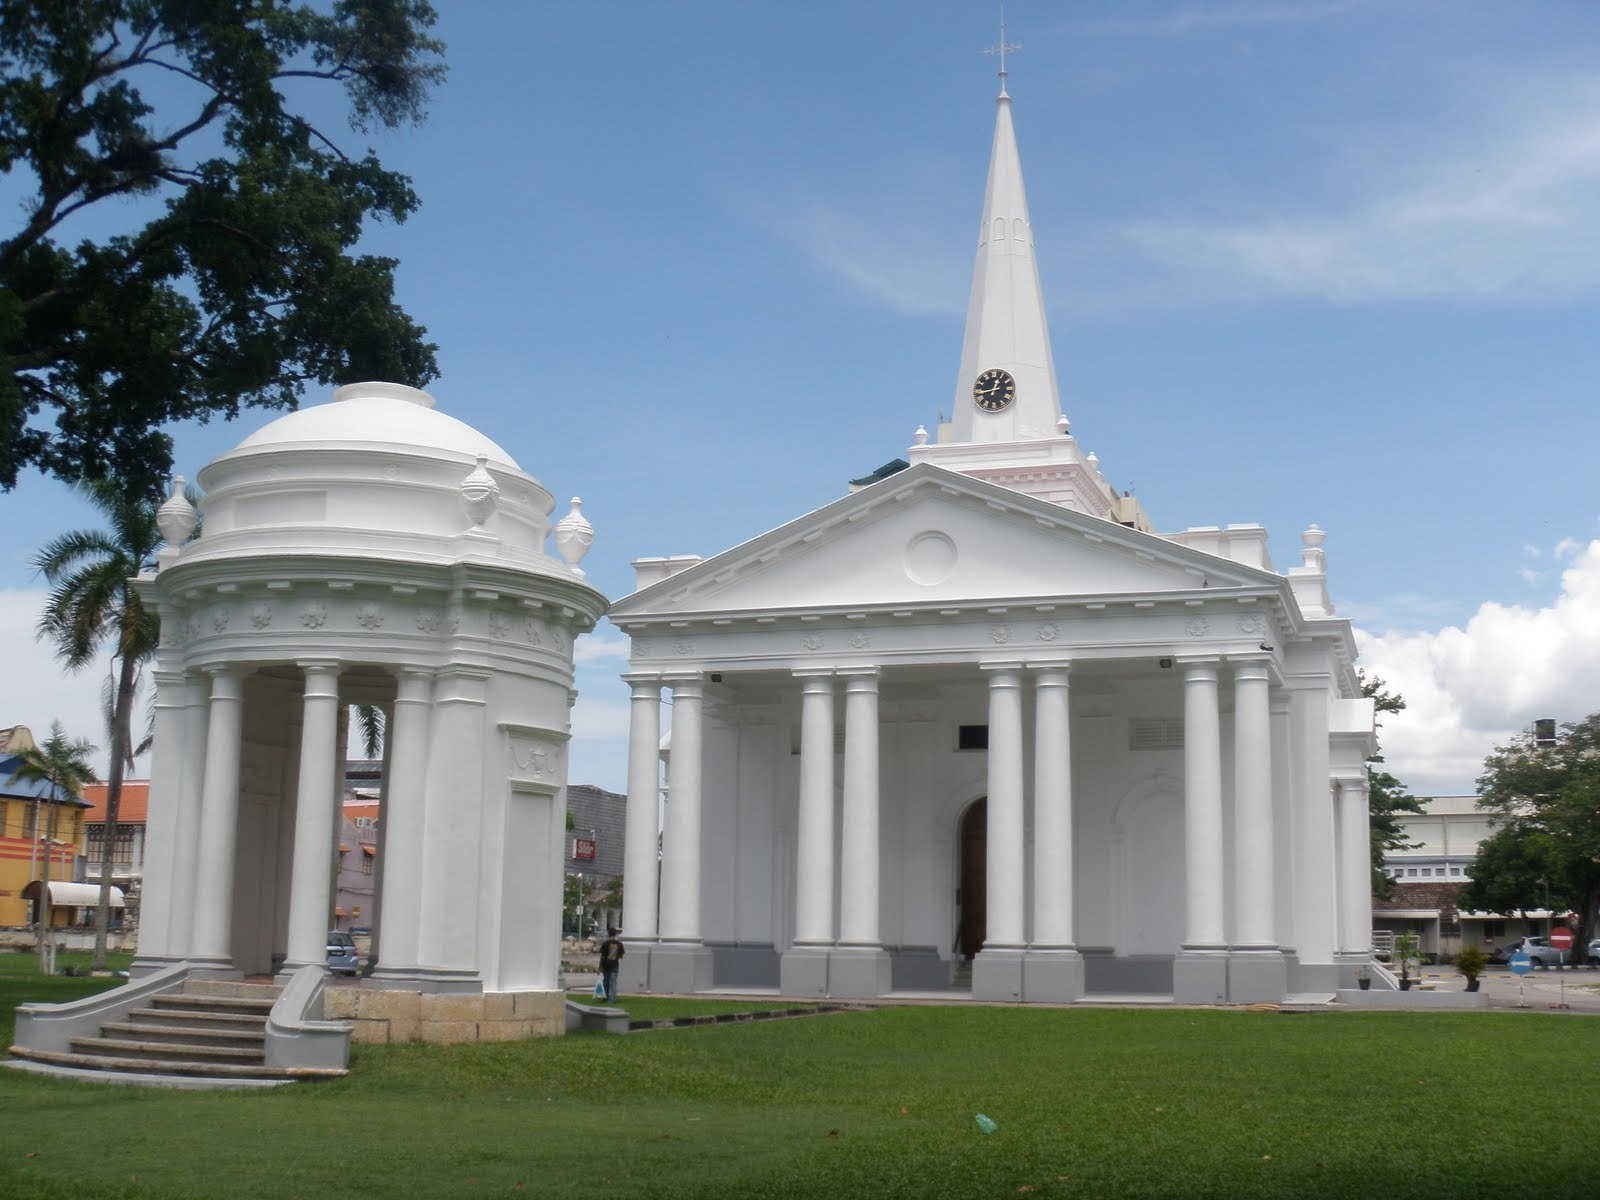Church: (157, 13, 1397, 1016)
